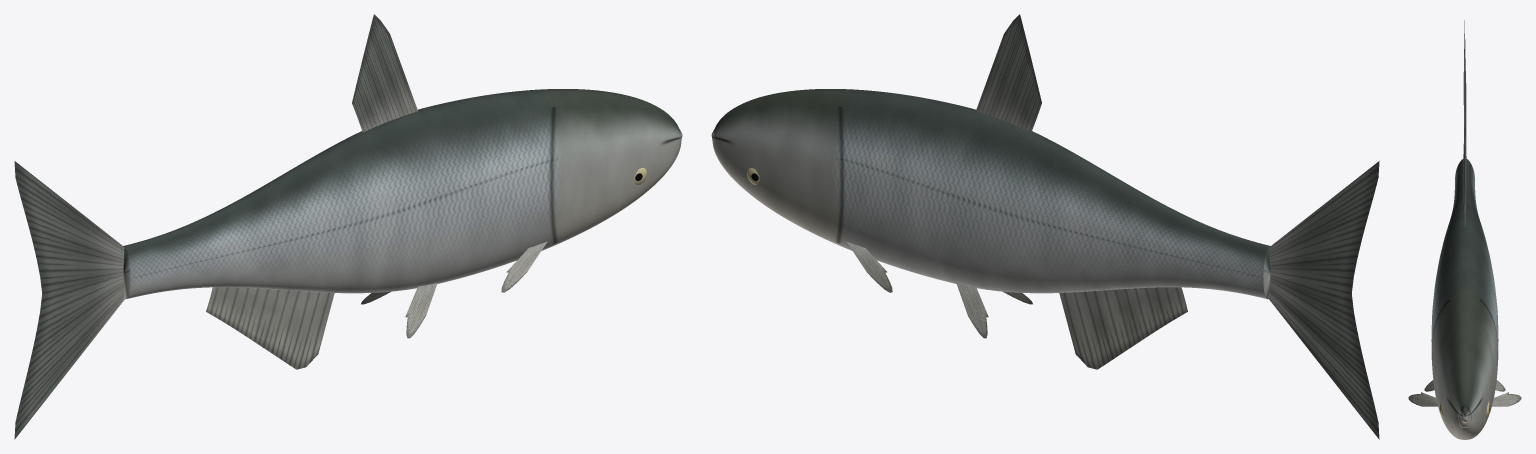
Rendered from fish_silver_carp.gltf.
3 renders of one model, left to right at view 1: azimuth 30°, elevation 25°; view 2: azimuth 150°, elevation 25°; view 3: azimuth 270°, elevation 25°, orthographic. The views are drawn at different scales.
Visible parts, largest first — view 1: fish_silver_carp; view 2: fish_silver_carp; view 3: fish_silver_carp.
Boxes of the visible parts, <box> form: fish_silver_carp: <box>14,14,682,439</box>; fish_silver_carp: <box>711,14,1379,439</box>; fish_silver_carp: <box>1408,20,1521,439</box>.
Size of the model in its own units: 0.6504 by 0.3147 by 0.1096.
Materials: 6 (4 with a texture image).
